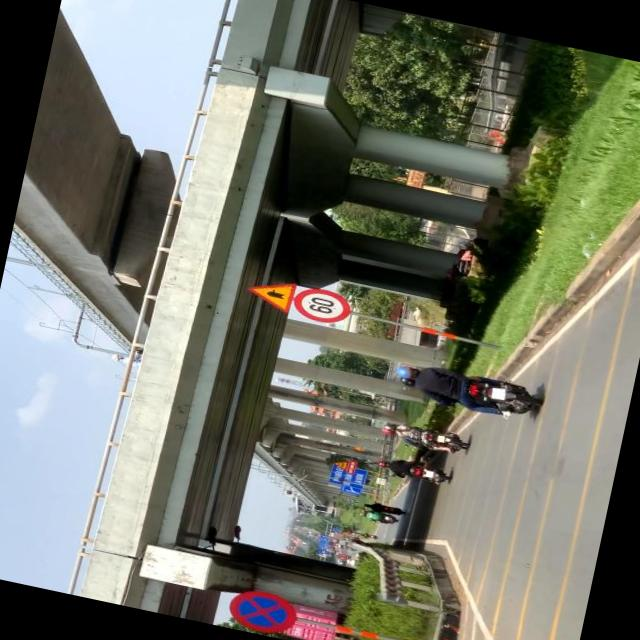P-127: (289, 281, 355, 327)
P-130: (225, 582, 299, 639)
W-207b: (240, 272, 296, 314)
